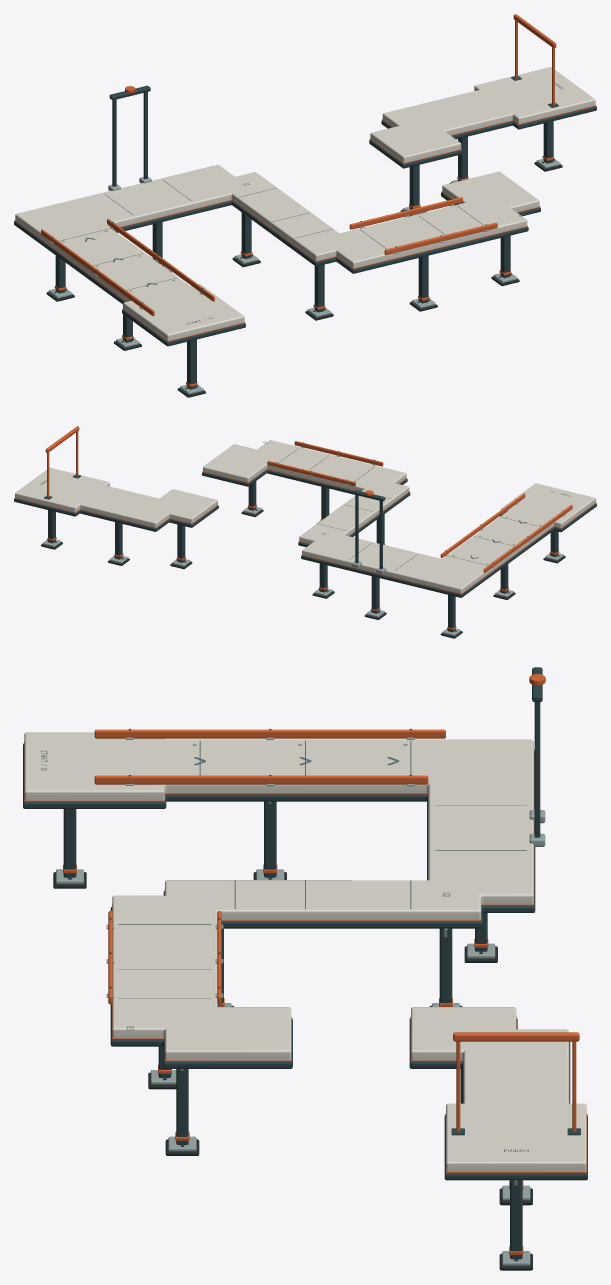
Rendered from track-round-03.glb.
The picture shows the model from 3 angles, top to bottom: view 1: azimuth 30°, elevation 25°; view 2: azimuth 150°, elevation 25°; view 3: azimuth 270°, elevation 25°; orthographic projection. The views are drawn at different scales.
Visible parts, largest first — view 1: TrackStatic; view 2: TrackStatic; view 3: TrackStatic.
Boxes of the visible parts, box(x1,y1,x2,y2) form: TrackStatic: box(14, 14, 596, 397); TrackStatic: box(14, 426, 596, 638); TrackStatic: box(23, 667, 587, 1270).
Bounding box in the file's own units: 29.08 × 8.54 × 16.08.
